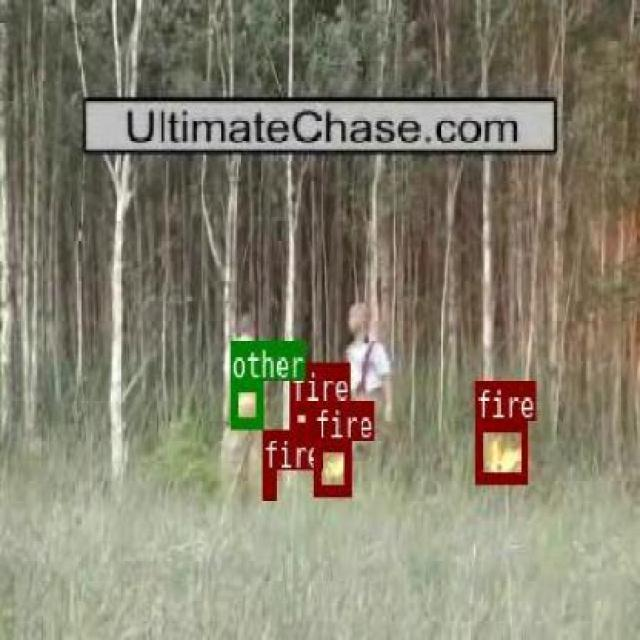Fire: (474, 420, 526, 480), (313, 439, 349, 493), (288, 400, 312, 431), (262, 468, 275, 496)
